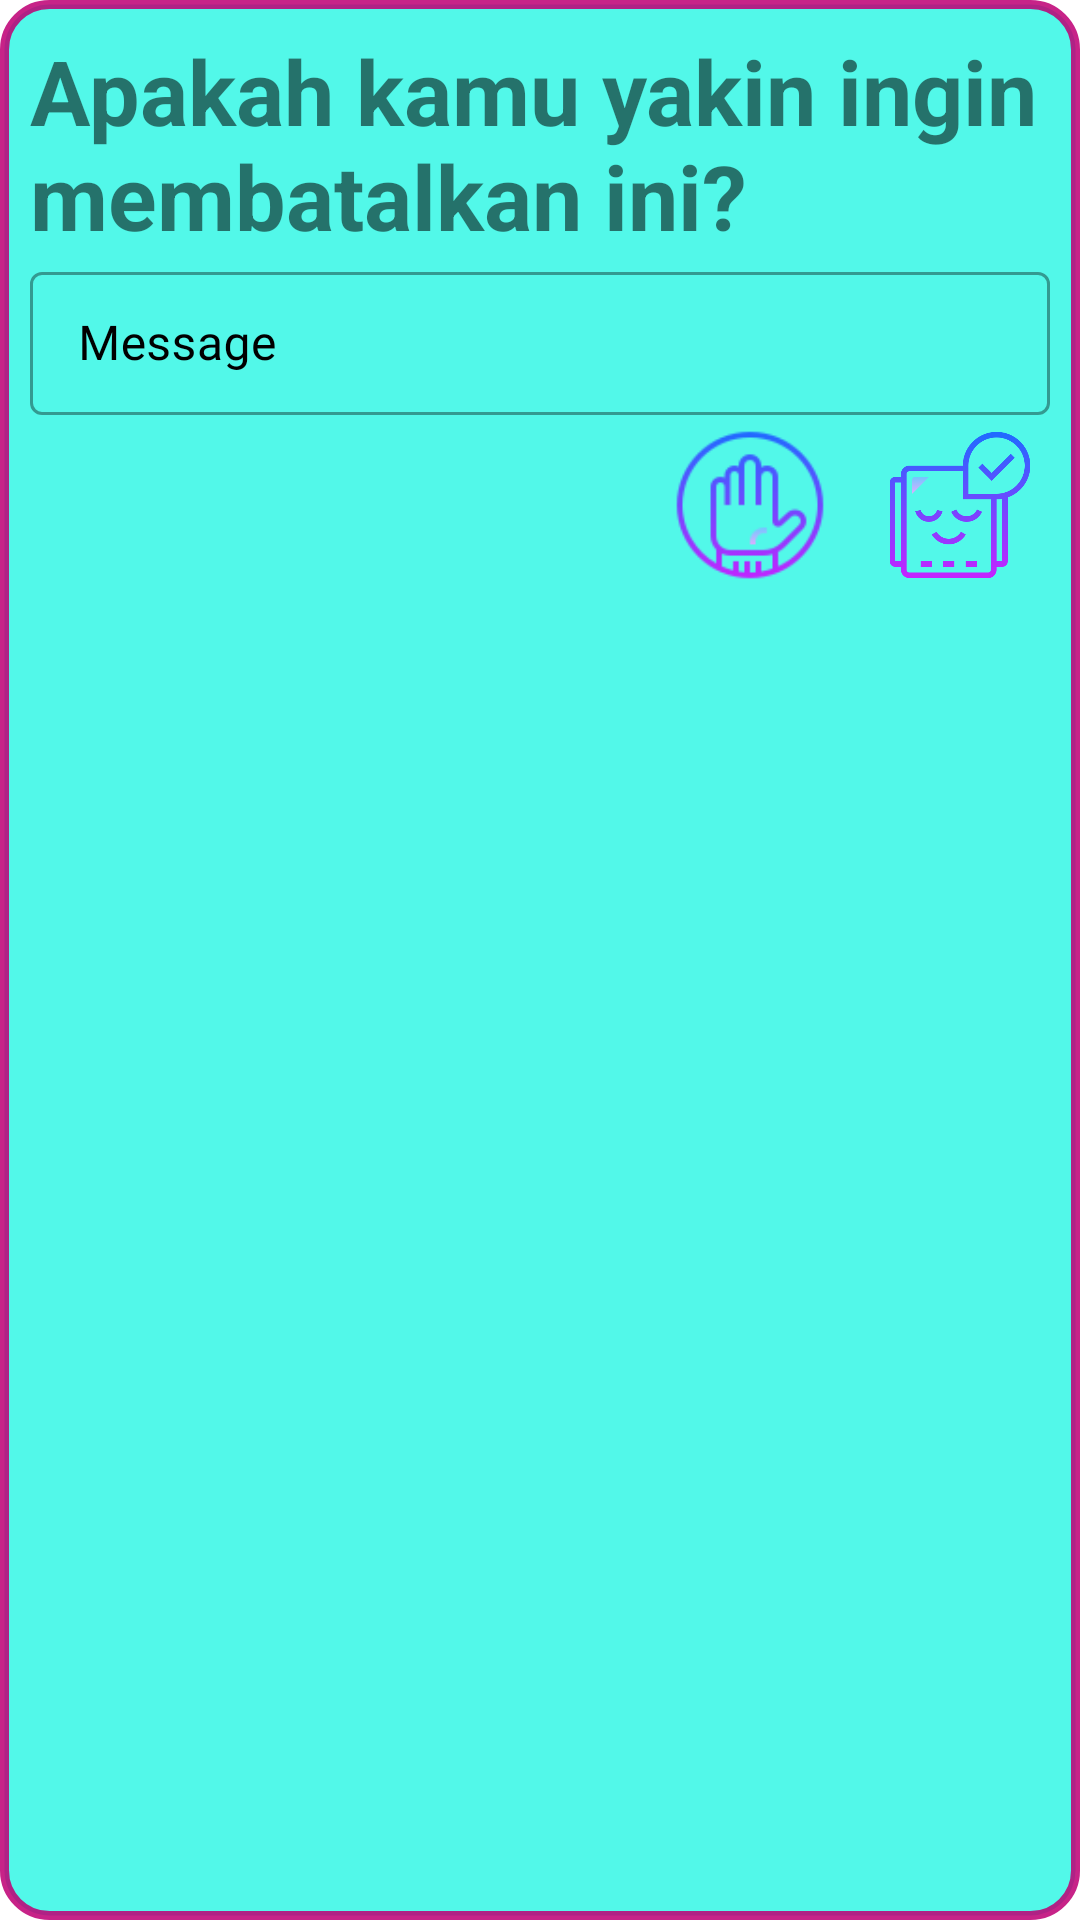

Icon bounding boxes for this 1080x1920 phone screenshot, format (x1, y1, x2, y2):
tolak: (676, 431, 824, 579)
yes: (890, 432, 1030, 578)
